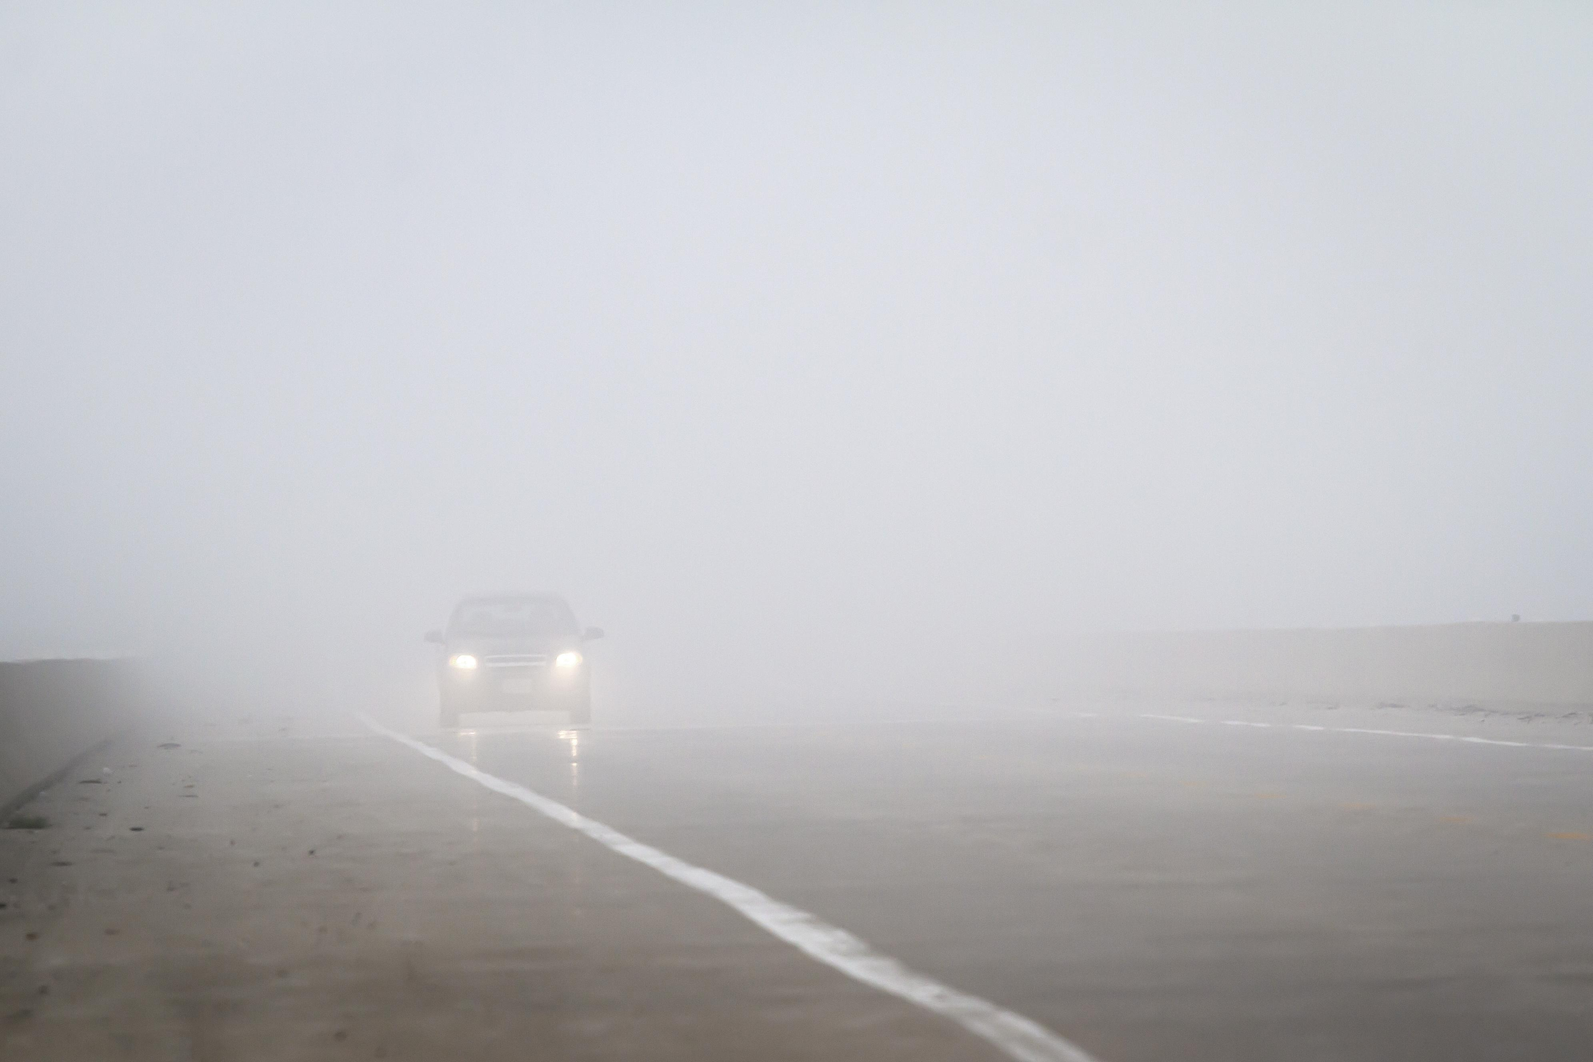bench: (429, 590, 595, 730)
boat: (430, 590, 595, 731)
bus: (422, 590, 595, 732)
car: (430, 591, 595, 731), (467, 615, 584, 712)
chair: (429, 589, 595, 730)
motorcycle: (429, 588, 595, 732)
person: (429, 586, 590, 731)
truck: (430, 590, 596, 729)
